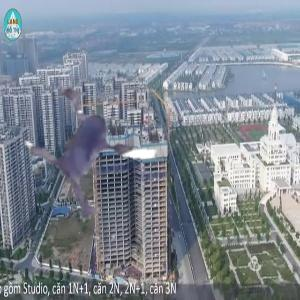drone: (8, 53, 218, 263)
